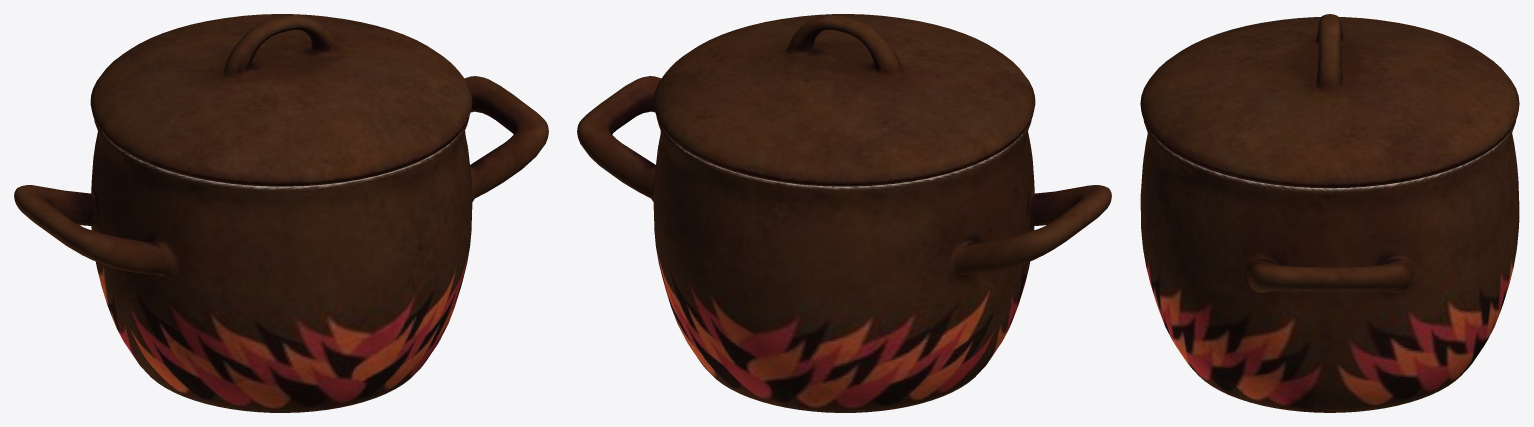
The model's file is pot_enamel_01.glb.
The picture shows the model from 3 angles, left to right: view 1: azimuth 30°, elevation 25°; view 2: azimuth 150°, elevation 25°; view 3: azimuth 270°, elevation 25°; orthographic projection.
Parts seen in each view (by area): view 1: pot_enamel_01_base, pot_enamel_01_lid; view 2: pot_enamel_01_base, pot_enamel_01_lid; view 3: pot_enamel_01_base, pot_enamel_01_lid.
Boxes of the visible parts, x1,y1,x2,y2 form: pot_enamel_01_base: (14, 76, 548, 412); pot_enamel_01_lid: (90, 14, 472, 186); pot_enamel_01_base: (577, 76, 1111, 412); pot_enamel_01_lid: (653, 14, 1035, 186); pot_enamel_01_base: (1140, 120, 1519, 412); pot_enamel_01_lid: (1140, 14, 1519, 188).
Bounding box in the file's own units: 0.2628 × 0.1782 × 0.1805.
1 material, 1 textured.
